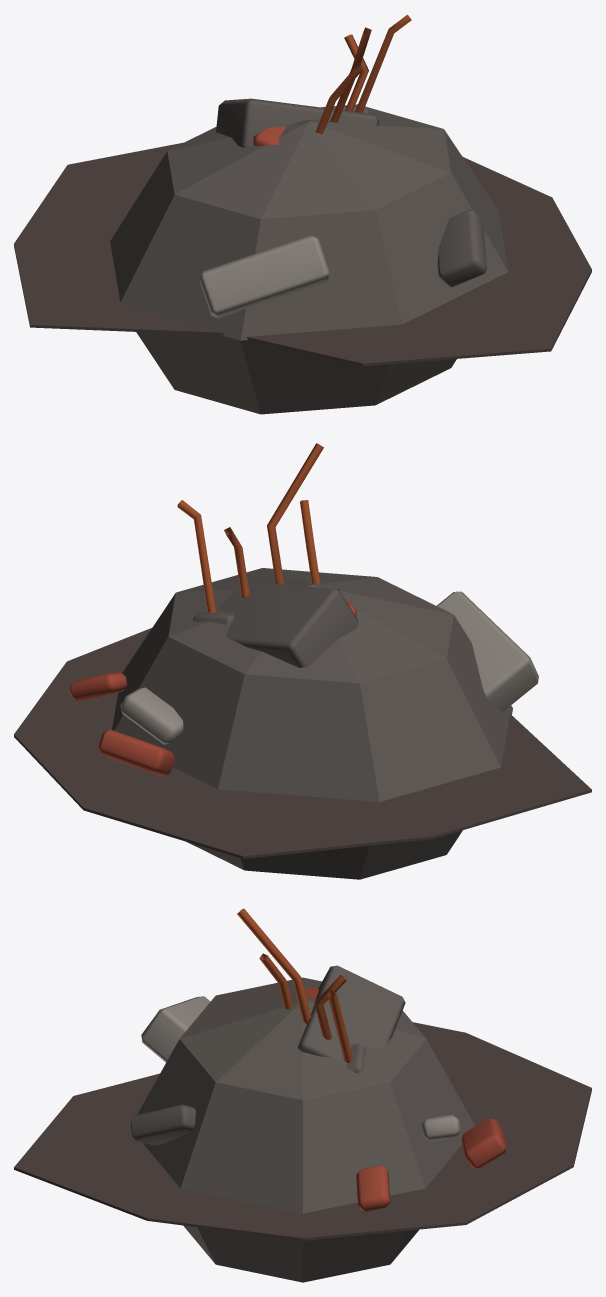
Rendered from city_rubble_a.glb.
3 views of the same model, one above another, from view 1: azimuth 30°, elevation 25°; view 2: azimuth 150°, elevation 25°; view 3: azimuth 270°, elevation 25° (orthographic). The views are drawn at different scales.
Parts seen in each view (by area): view 1: RubbleA; view 2: RubbleA; view 3: RubbleA.
Boxes of the visible parts, x1,y1,x2,y2 form: RubbleA: (14,14,591,414); RubbleA: (14,443,591,879); RubbleA: (14,908,591,1282).
Bounding box in the file's own units: 3.03 × 2.15 × 3.11.
